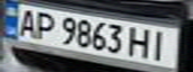3: (106, 21, 127, 55)
6: (90, 20, 109, 52)
8: (72, 17, 93, 50)
9: (54, 15, 78, 46)
A: (12, 7, 42, 38)
H: (124, 25, 154, 58)
I: (145, 28, 175, 61)
P: (30, 9, 60, 40)
